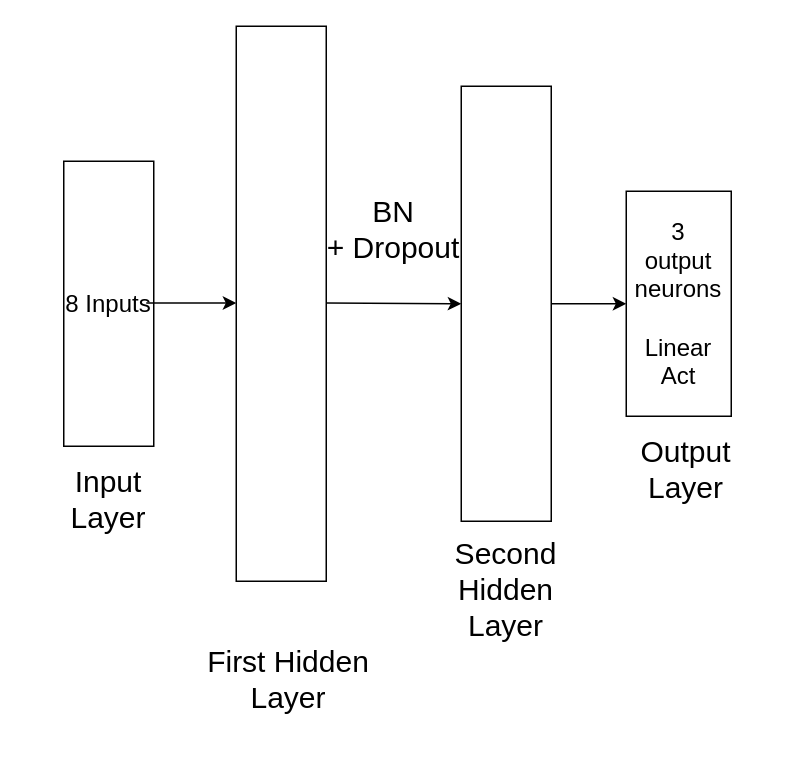
The diagram is 794 pixels wide and 758 high, and some of its shapes have lost their labels. The centre of each missing label's shape, as x and y in pixels:
32 hidden neurons ReLU Act: (x=505, y=303)
64 hidden neurons ReLU Act: (x=280, y=303)
